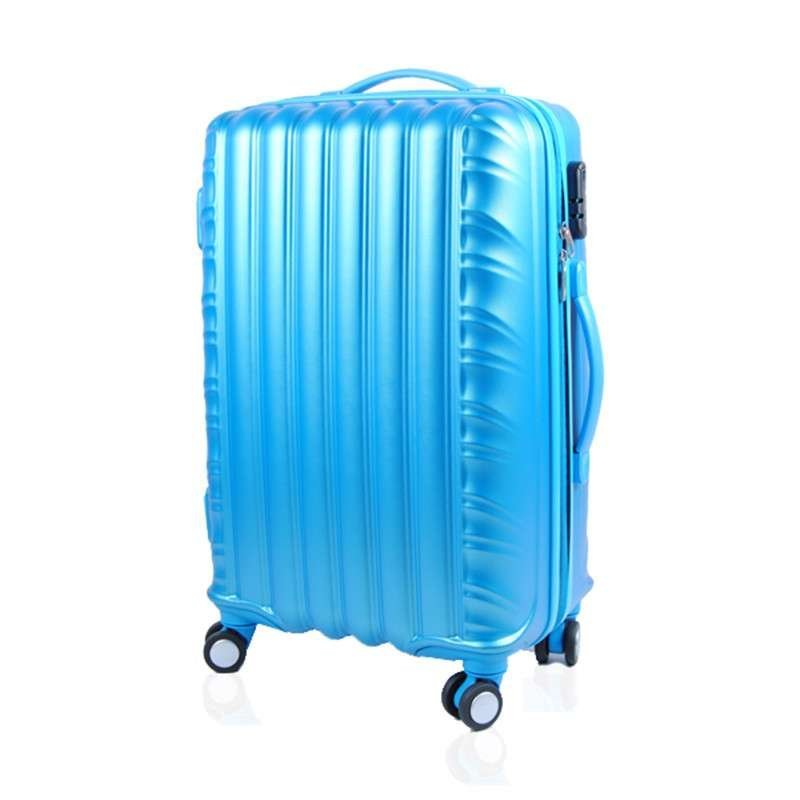luggage: (195, 66, 607, 735)
